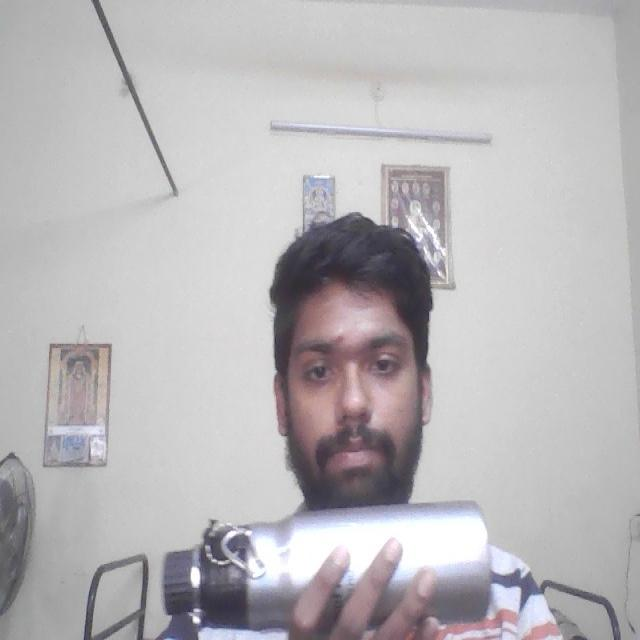Drinking: (158, 499, 505, 635)
